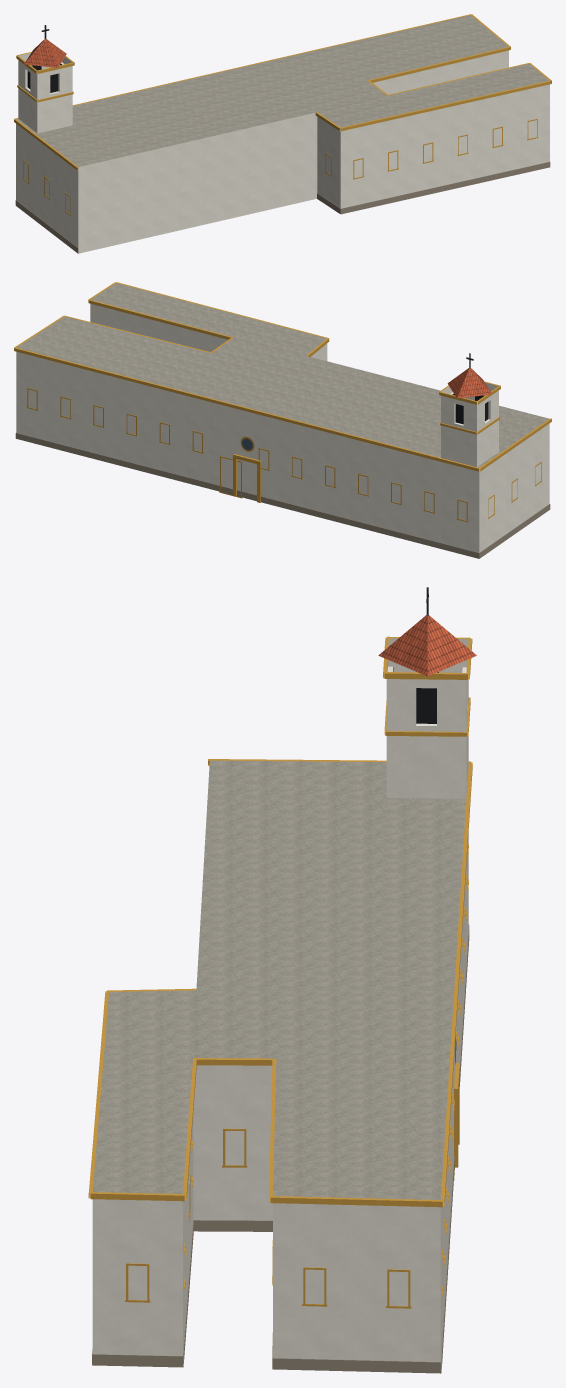
The picture shows the model from 3 angles, top to bottom: view 1: azimuth 30°, elevation 25°; view 2: azimuth 150°, elevation 25°; view 3: azimuth 270°, elevation 25°; orthographic projection. The views are drawn at different scales.
Visible parts, largest first — view 1: B-w692428477_lejos, B-w692428477_cubierta, B-w692428477_muros, B-w692428477_molduras, B-w692428477_remates; view 2: B-w692428477_muros, B-w692428477_cubierta, B-w692428477_lejos, B-w692428477_molduras, B-w692428477_remates; view 3: B-w692428477_cubierta, B-w692428477_muros, B-w692428477_lejos, B-w692428477_remates, B-w692428477_molduras.
Boxes of the visible parts, x1,y1,x2,y2 form: B-w692428477_lejos: [24, 62, 536, 253]; B-w692428477_cubierta: [16, 15, 549, 166]; B-w692428477_muros: [16, 50, 549, 252]; B-w692428477_molduras: [14, 14, 551, 253]; B-w692428477_remates: [16, 25, 74, 133]; B-w692428477_muros: [16, 303, 549, 552]; B-w692428477_cubierta: [16, 283, 549, 467]; B-w692428477_lejos: [28, 309, 540, 552]; B-w692428477_molduras: [14, 282, 551, 558]; B-w692428477_remates: [233, 353, 500, 552]; B-w692428477_cubierta: [92, 760, 466, 1199]; B-w692428477_muros: [92, 870, 466, 1367]; B-w692428477_lejos: [92, 844, 467, 1362]; B-w692428477_remates: [378, 587, 476, 1167]; B-w692428477_molduras: [88, 759, 472, 1373].
Bounding box in the file's own units: 60.32 × 23.42 × 22.36.
4 materials, 4 textured.
